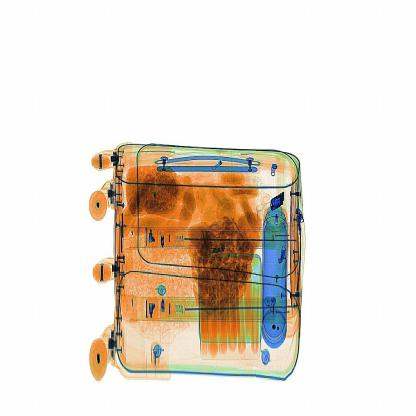knife: (263, 180, 292, 218)
